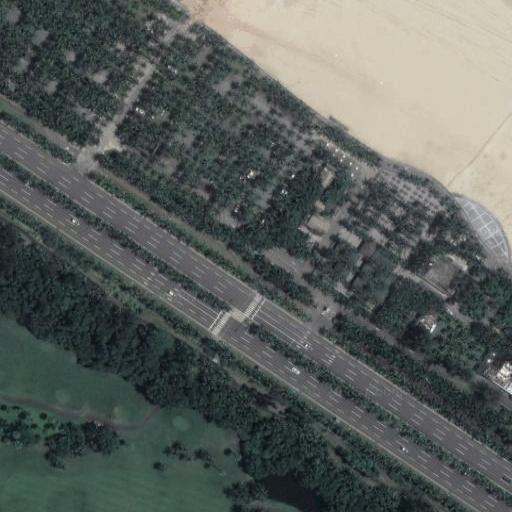building: (474, 348, 512, 394), (352, 275, 388, 306), (360, 261, 395, 292), (450, 271, 480, 303), (334, 223, 366, 252), (370, 247, 399, 274), (412, 309, 439, 337), (303, 211, 331, 237), (358, 241, 378, 261), (314, 168, 333, 188), (311, 198, 328, 213)
